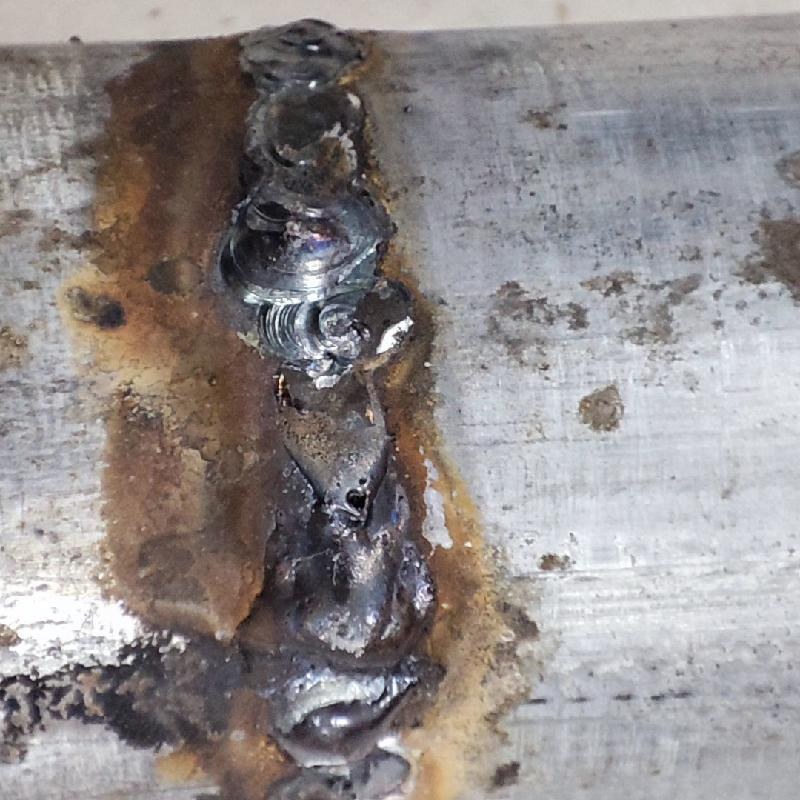Not_fully_soldered: (265, 362, 393, 522)
Surface_pores: (328, 470, 380, 516)
Weld: (258, 524, 411, 772)
wrong_size: (229, 22, 377, 358)
